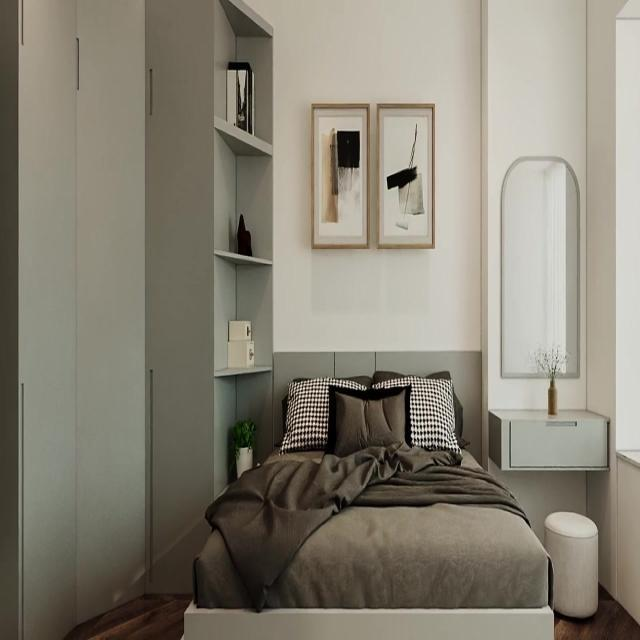obstacle: (182, 350, 556, 638), (487, 399, 610, 472)
